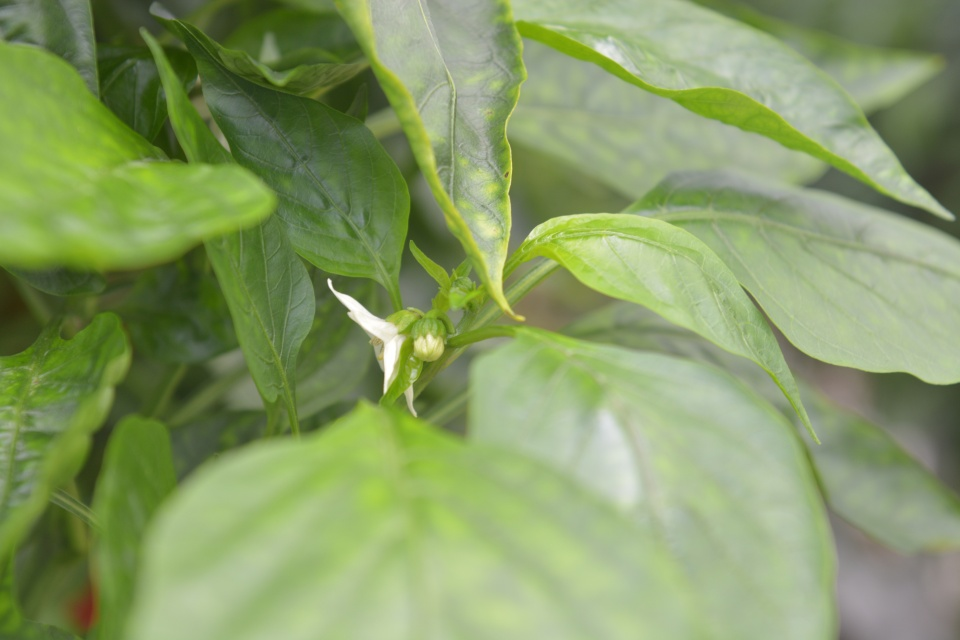flower: (325, 275, 427, 421)
